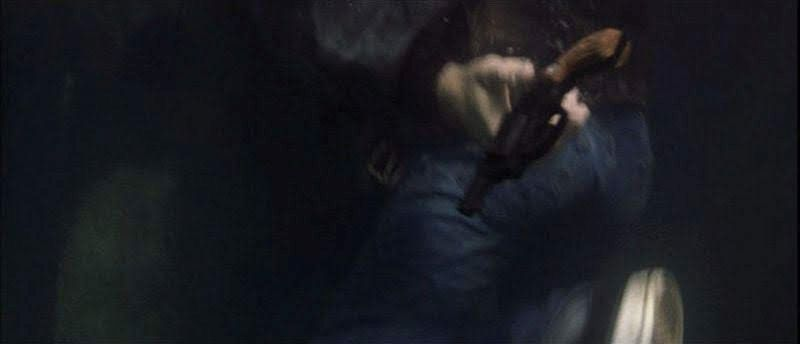gun: (471, 12, 633, 223)
